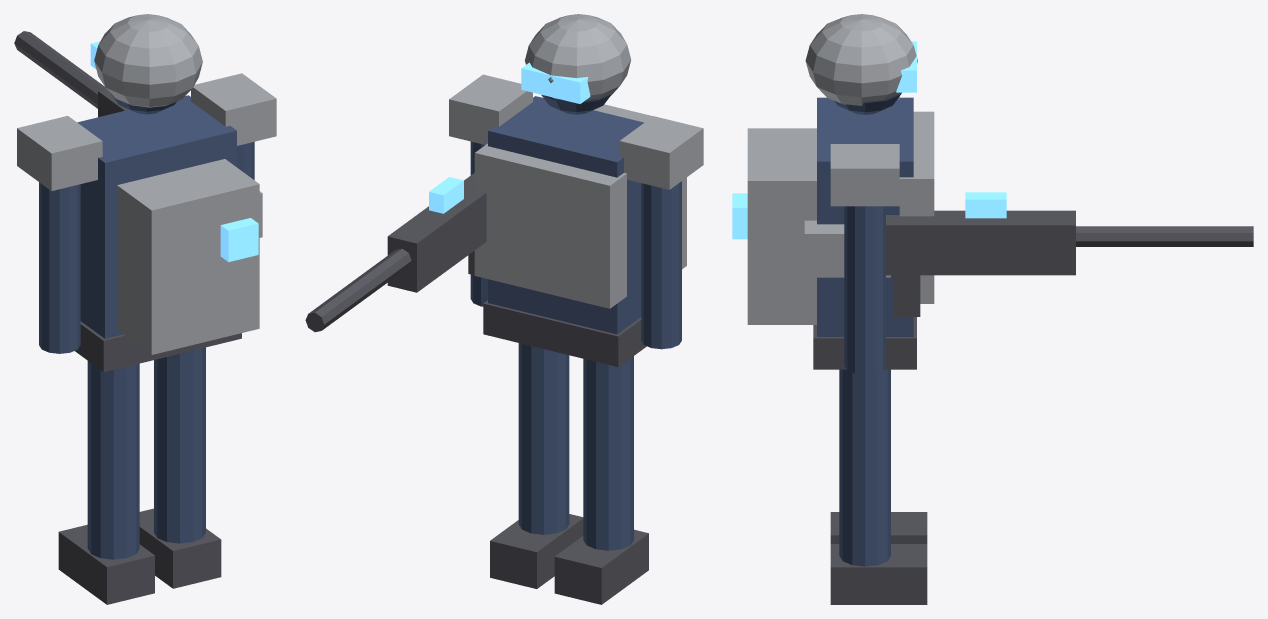
File: us_ranger.glb
3 views of the same model, side by side, from view 1: azimuth 30°, elevation 25°; view 2: azimuth 150°, elevation 25°; view 3: azimuth 270°, elevation 25° (orthographic). The views are drawn at different scales.
Parts seen in each view (by area): view 1: Ranger_Pack, Ranger_Torso, Ranger_LegL, Ranger_LegR, Ranger_Helmet, Ranger_ArmL, Ranger_PadL, Ranger_BootL, Ranger_PadR, Ranger_BootR, Ranger_Belt, Ranger_RifleBarrel (+4 smaller); view 2: Ranger_Chest, Ranger_Torso, Ranger_LegR, Ranger_LegL, Ranger_ArmL, Ranger_RifleBody, Ranger_Helmet, Ranger_Belt, Ranger_PadL, Ranger_BootL, Ranger_BootR, Ranger_PadR (+6 smaller); view 3: Ranger_Pack, Ranger_RifleBody, Ranger_LegR, Ranger_Torso, Ranger_Helmet, Ranger_ArmR, Ranger_BootR, Ranger_PadR, Ranger_RifleBarrel, Ranger_Chest, Ranger_RifleStock, Ranger_Belt (+4 smaller).
Boxes of the visible parts, left/top/right/bottom form: Ranger_Pack: left=117, top=159, right=259, bottom=354; Ranger_Torso: left=77, top=95, right=236, bottom=338; Ranger_LegL: left=87, top=361, right=139, bottom=559; Ranger_LegR: left=154, top=347, right=205, bottom=543; Ranger_Helmet: left=94, top=14, right=202, bottom=107; Ranger_ArmL: left=39, top=182, right=80, bottom=353; Ranger_PadL: left=17, top=116, right=102, bottom=191; Ranger_BootL: left=58, top=524, right=154, bottom=604; Ranger_PadR: left=191, top=73, right=276, bottom=145; Ranger_BootR: left=139, top=508, right=221, bottom=588; Ranger_Belt: left=75, top=321, right=241, bottom=372; Ranger_RifleBarrel: left=14, top=31, right=106, bottom=108; Ranger_Chest: left=474, top=143, right=626, bottom=308; Ranger_Torso: left=488, top=96, right=643, bottom=334; Ranger_LegR: left=518, top=343, right=569, bottom=534; Ranger_LegL: left=583, top=356, right=633, bottom=550; Ranger_ArmL: left=641, top=181, right=681, bottom=349; Ranger_RifleBody: left=387, top=173, right=486, bottom=292; Ranger_Helmet: left=524, top=14, right=631, bottom=100; Ranger_Belt: left=483, top=300, right=646, bottom=367; Ranger_PadL: left=619, top=116, right=703, bottom=189; Ranger_BootL: left=554, top=529, right=648, bottom=604; Ranger_BootR: left=490, top=514, right=583, bottom=588; Ranger_PadR: left=449, top=74, right=532, bottom=144; Ranger_Pack: left=747, top=128, right=816, bottom=324; Ranger_RifleBody: left=886, top=210, right=1075, bottom=275; Ranger_LegR: left=839, top=369, right=890, bottom=566; Ranger_Torso: left=817, top=97, right=913, bottom=336; Ranger_Helmet: left=805, top=14, right=917, bottom=105; Ranger_ArmR: left=844, top=206, right=885, bottom=374; Ranger_BootR: left=830, top=544, right=927, bottom=604; Ranger_PadR: left=830, top=144, right=899, bottom=206; Ranger_RifleBarrel: left=1076, top=226, right=1253, bottom=246; Ranger_Chest: left=899, top=111, right=934, bottom=303; Ranger_RifleStock: left=804, top=220, right=890, bottom=277; Ranger_Belt: left=813, top=317, right=916, bottom=369.
Bounding box in the file's own units: 0.75 × 1.78 × 1.51.
